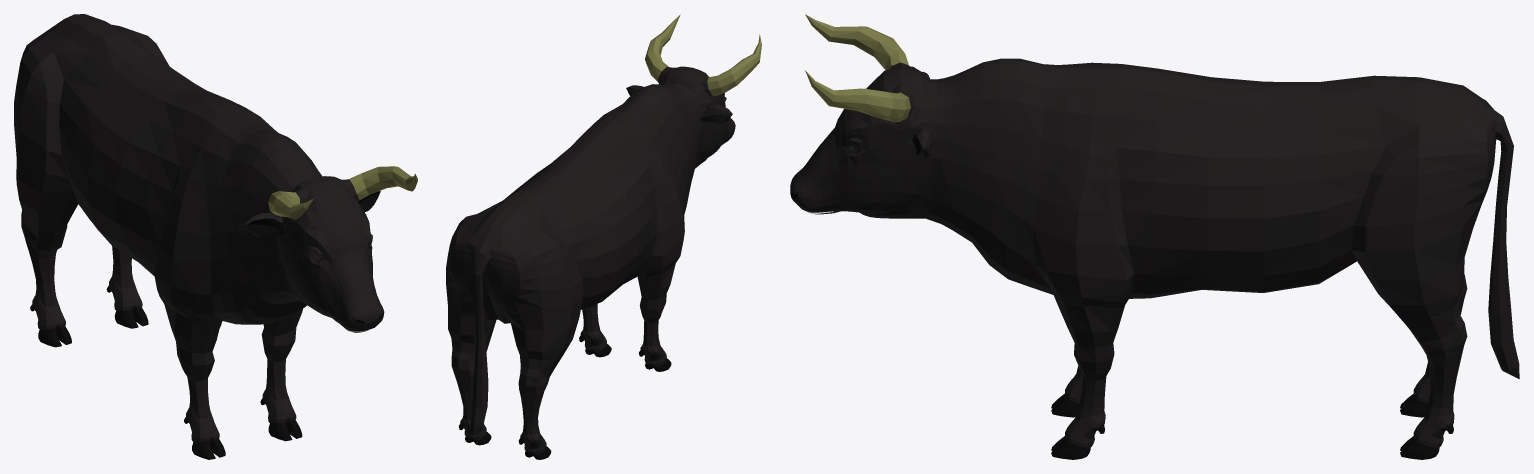
File: bull_bull.obj
3 views of the same model, side by side, from view 1: azimuth 30°, elevation 25°; view 2: azimuth 150°, elevation 25°; view 3: azimuth 270°, elevation 25° (orthographic). The views are drawn at different scales.
Bounding box in the file's own units: 0.7446 × 1.55 × 2.63.
